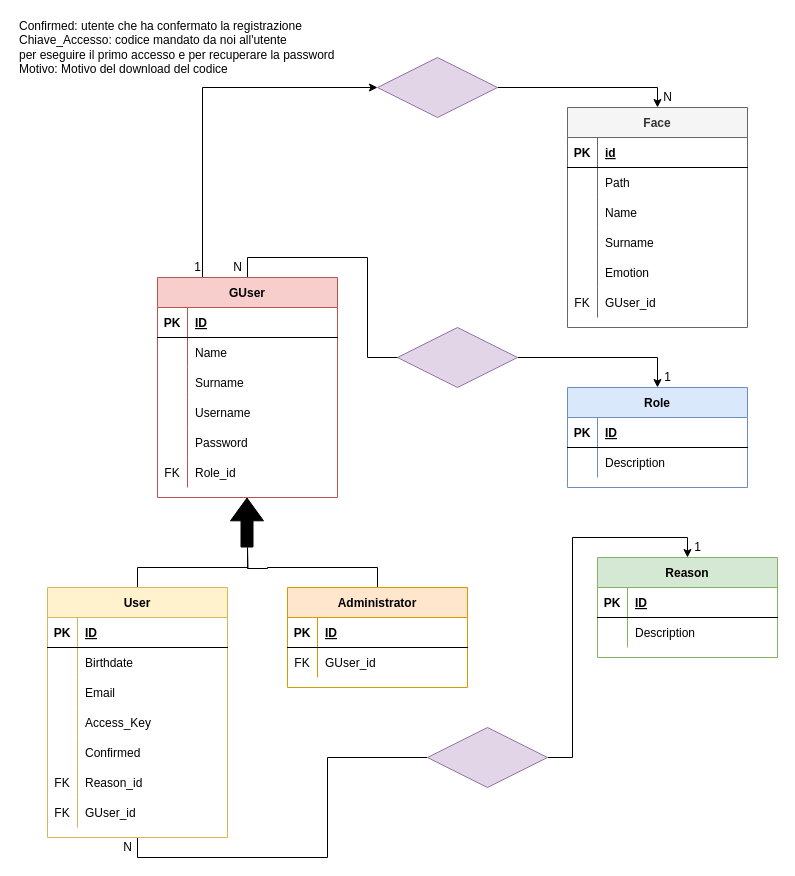
The diagram is 795 pixels wide and 876 high, and some of its shapes have lost their labels. Each missing label, with the centre of its shape:
"Have" belongs at (457,357).
"Insert" belongs at (437,87).
"Select" belongs at (487,757).
